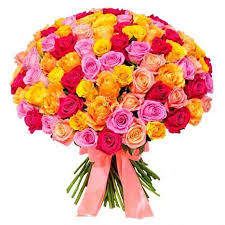lale: (122, 121, 149, 155), (112, 59, 139, 91), (163, 107, 192, 135), (87, 96, 112, 126), (166, 90, 193, 115), (137, 100, 166, 123), (37, 114, 65, 137), (21, 89, 55, 107), (109, 108, 134, 132), (126, 39, 151, 63), (95, 72, 117, 99), (99, 49, 127, 69), (160, 65, 186, 86), (75, 126, 95, 153), (67, 80, 94, 100), (148, 120, 170, 144), (90, 27, 120, 44), (60, 52, 86, 71), (106, 33, 132, 52), (26, 111, 46, 135), (58, 94, 78, 118), (96, 131, 117, 153), (78, 61, 99, 83), (55, 34, 77, 55), (123, 88, 141, 113), (150, 36, 170, 58), (53, 121, 76, 140), (144, 82, 167, 101), (123, 25, 146, 43), (68, 113, 88, 132), (15, 102, 32, 123), (47, 89, 64, 110), (92, 40, 109, 59), (46, 69, 65, 86), (77, 42, 95, 57), (27, 72, 46, 86), (30, 54, 43, 70)
